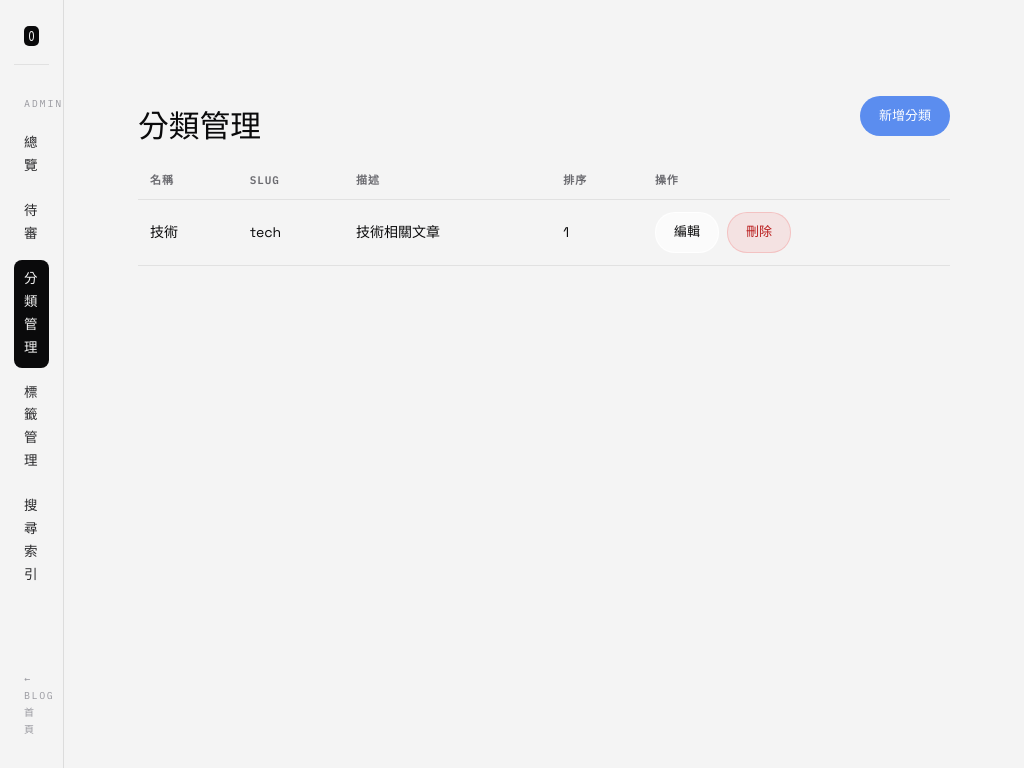
Test case: AdminCategoriesView › slug 格式驗證（對齊後端 Category.SLUG_PATTERN，2026-09-27 起不符回 400） › 編輯既有分類時改成不合格的 slug 同樣被擋下
Click the button with test id "admin-categories-edit-cat-uuid-1". click: (687, 233)
box: [655,212,719,253]
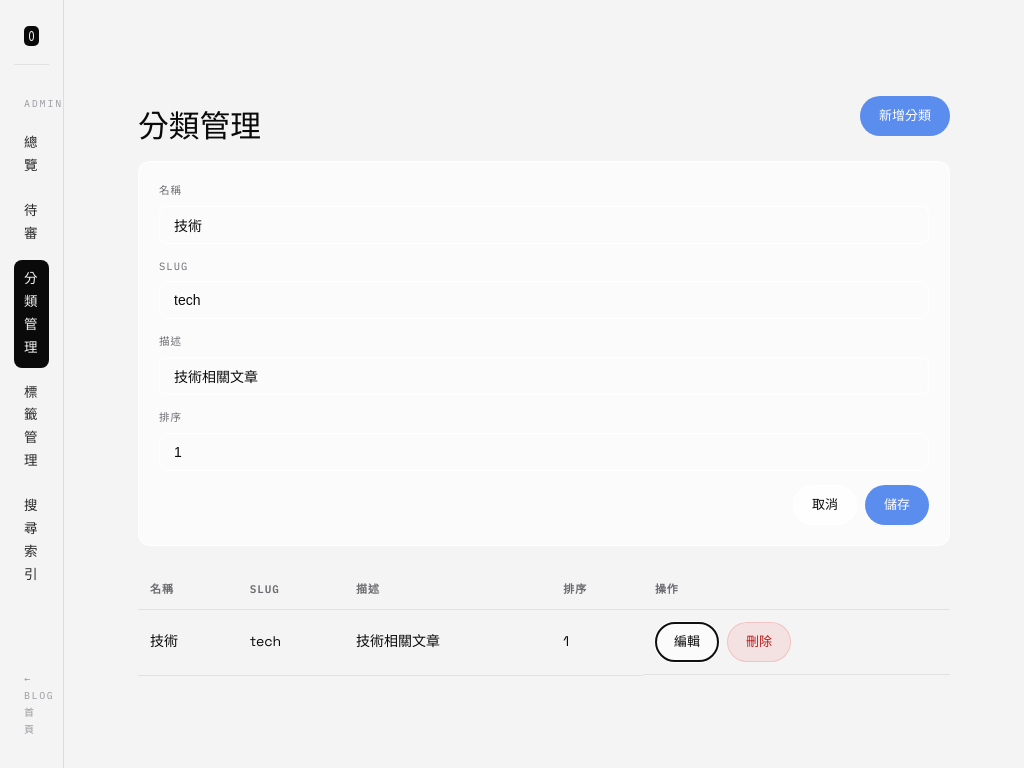
Replace the text in the field with test id "admin-categories-form-slug" with "Tech News". click: (544, 300)
box: [159,282,929,320]
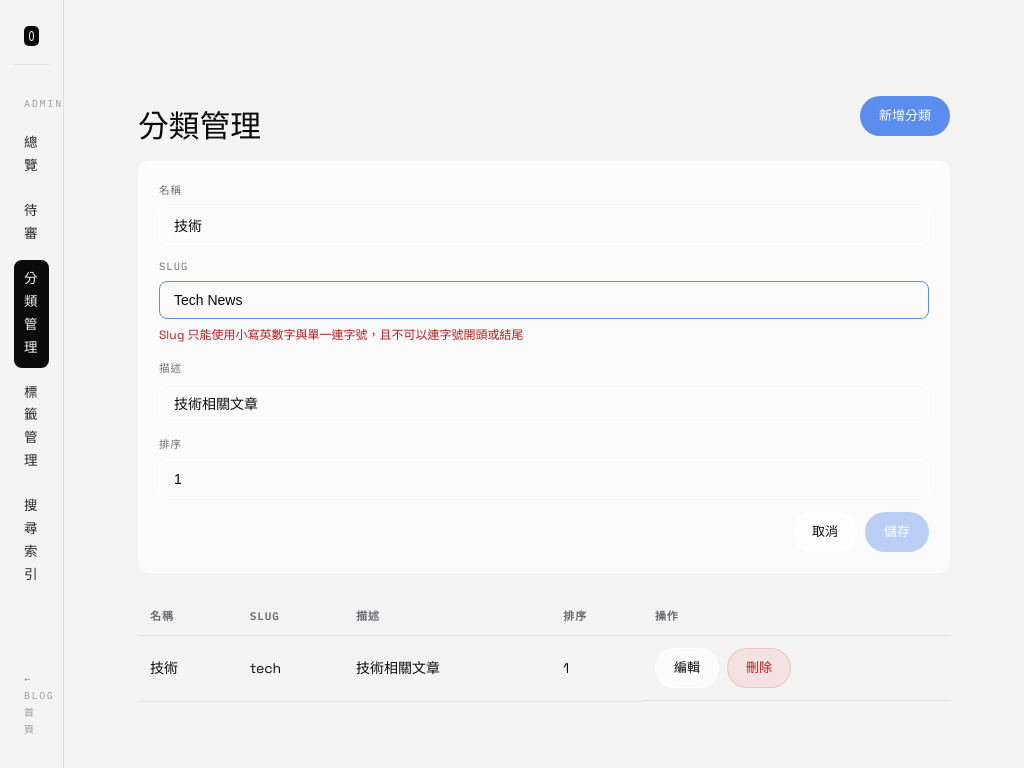
Now the text "Slug 只能使用小寫英數字與單一連字號，且不可以連字號開頭或結尾" is shown, box [159,328,523,344]
Now the button with test id "admin-categories-form-submit" is disabled, box [865,512,929,552]
